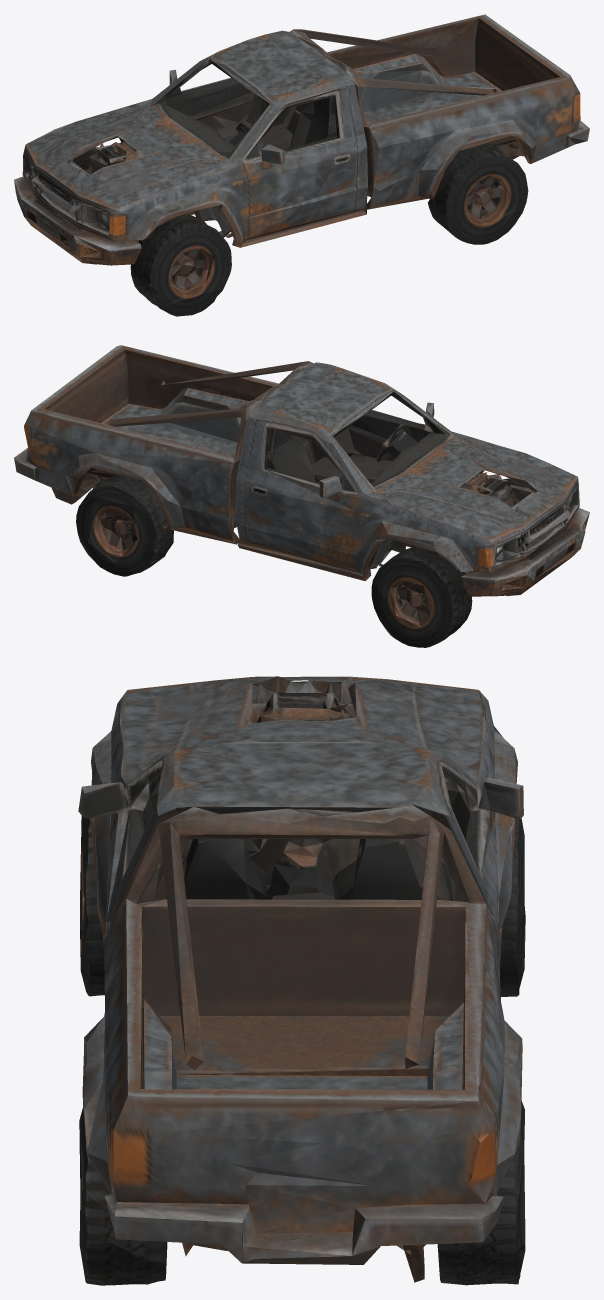
The model's file is ridgeback_close_lod_2k.glb.
3 views of the same model, one above another, from view 1: azimuth 30°, elevation 25°; view 2: azimuth 150°, elevation 25°; view 3: azimuth 270°, elevation 25° (orthographic). The views are drawn at different scales.
Size of the model in its own units: 1.9 by 0.6548 by 0.7334.
1 material, 1 textured.
